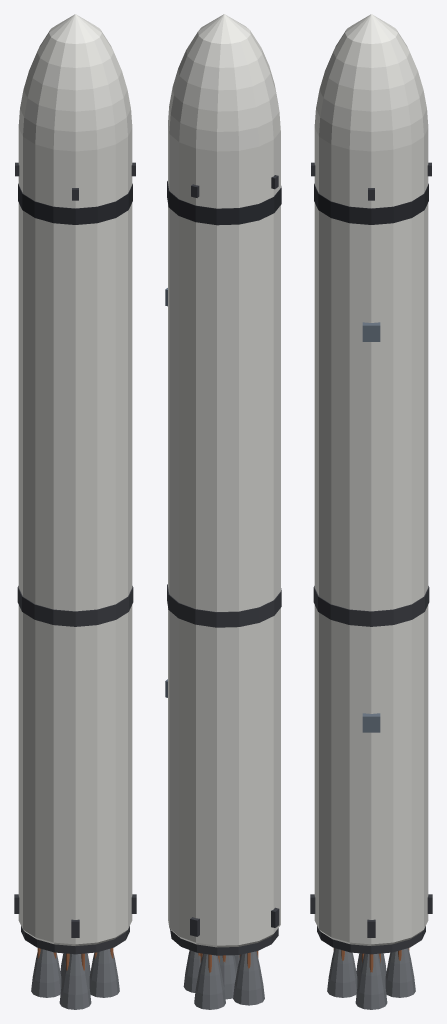
Rendered from Booster_L.fbx.
The picture shows the model from 3 angles, left to right: view 1: azimuth 90°, elevation 25°; view 2: azimuth 150°, elevation 25°; view 3: azimuth 270°, elevation 25°; orthographic projection.
Parts seen in each view (by area): view 1: Booster_L; view 2: Booster_L; view 3: Booster_L.
Boxes of the visible parts, box(x1,y1,x2,y2) form: Booster_L: box(14, 14, 136, 1009); Booster_L: box(165, 14, 281, 1009); Booster_L: box(310, 14, 432, 1009).
Size of the model in its own units: 2.07 by 18 by 2.04.
1 material, 1 textured.
